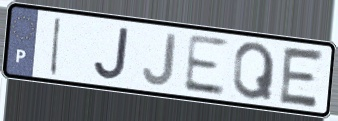E: (276, 44, 327, 110), (181, 32, 229, 98)
I: (47, 15, 64, 78)
J: (91, 26, 132, 82), (141, 31, 179, 88)
Q: (231, 41, 277, 103)
